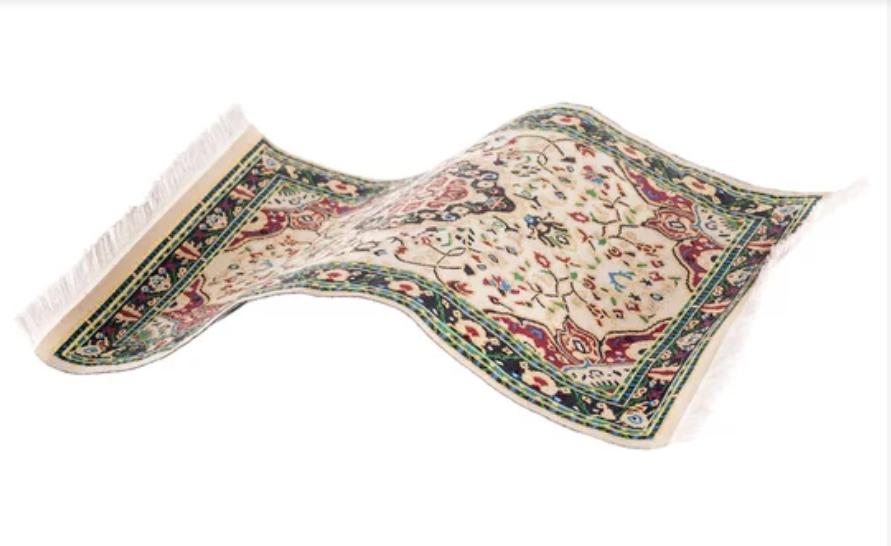carpet: (18, 67, 827, 458)
